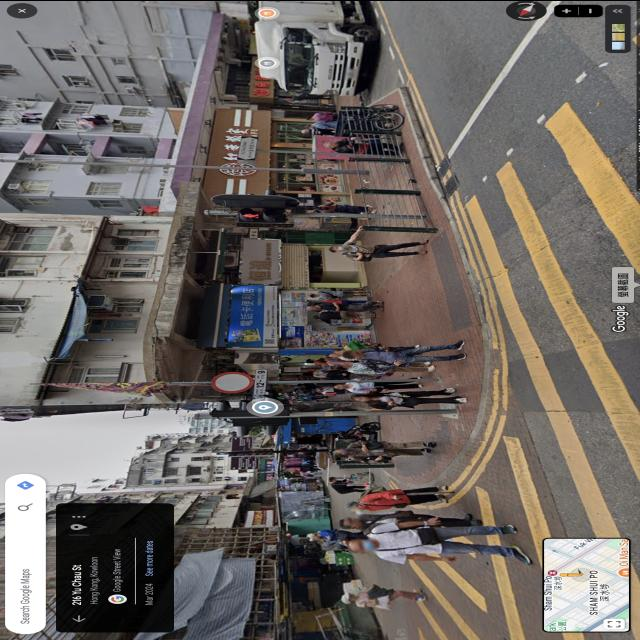Order-Sign: (210, 372, 253, 392)
Street-Direction-Sign: (236, 135, 258, 160)
